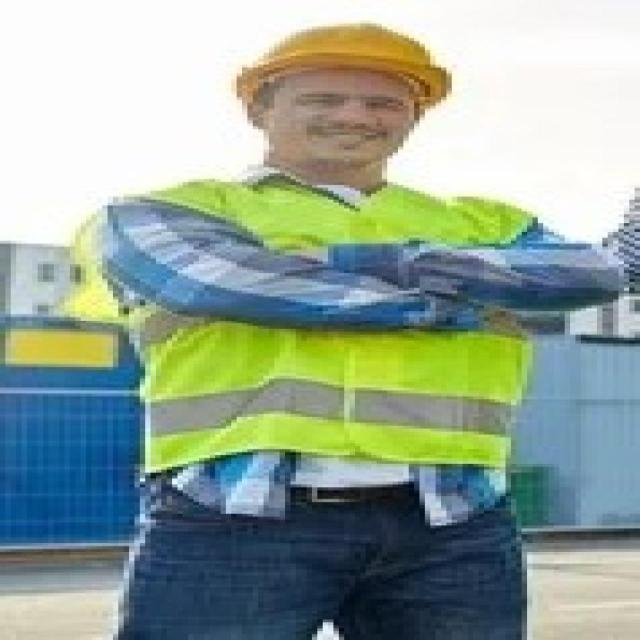Helmet: (191, 3, 526, 194)
Safety Vest: (81, 152, 595, 506)
